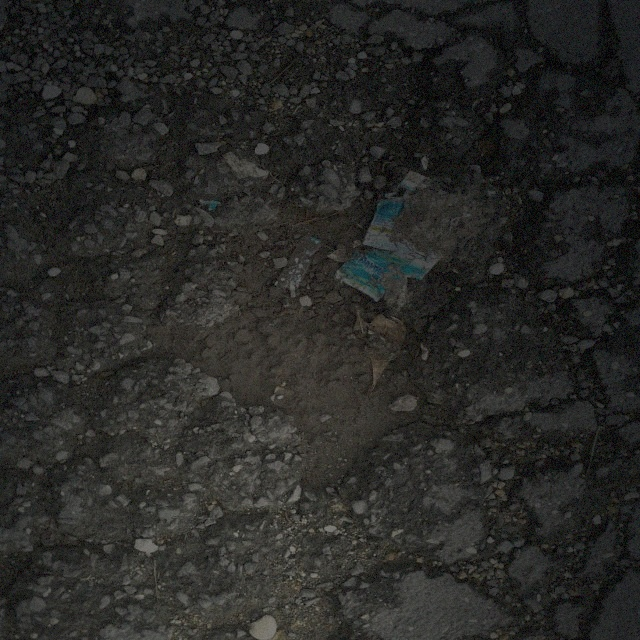pothole: (133, 163, 470, 475)
